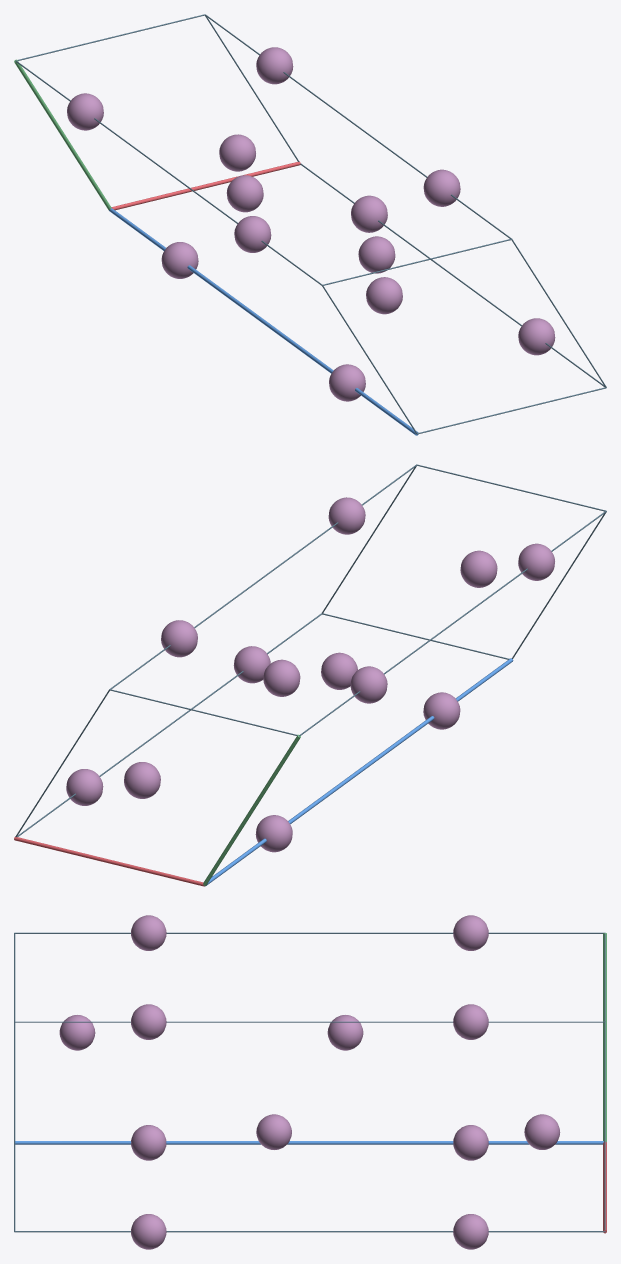
File: nguyen-to-as.glb
3 views of the same model, one above another, from view 1: azimuth 30°, elevation 25°; view 2: azimuth 150°, elevation 25°; view 3: azimuth 270°, elevation 25° (orthographic). The views are drawn at different scales.
Parts seen in each view (by area): view 1: As · As · 1 (×12), Ô mạng và các trục a, b, c; view 2: As · As · 1 (×12), Ô mạng và các trục a, b, c; view 3: As · As · 1 (×12), Ô mạng và các trục a, b, c.
Boxes of the visible parts, box(x1,y1,x2,y2) form: As · As · 1 (×12): box(67, 47, 555, 401); Ô mạng và các trục a, b, c: box(14, 14, 606, 435); As · As · 1 (×12): box(66, 497, 554, 852); Ô mạng và các trục a, b, c: box(14, 464, 606, 886); As · As · 1 (×12): box(59, 915, 560, 1249); Ô mạng và các trục a, b, c: box(14, 932, 606, 1233).
Size of the model in its own units: 6.28 by 3.9 by 10.59.
